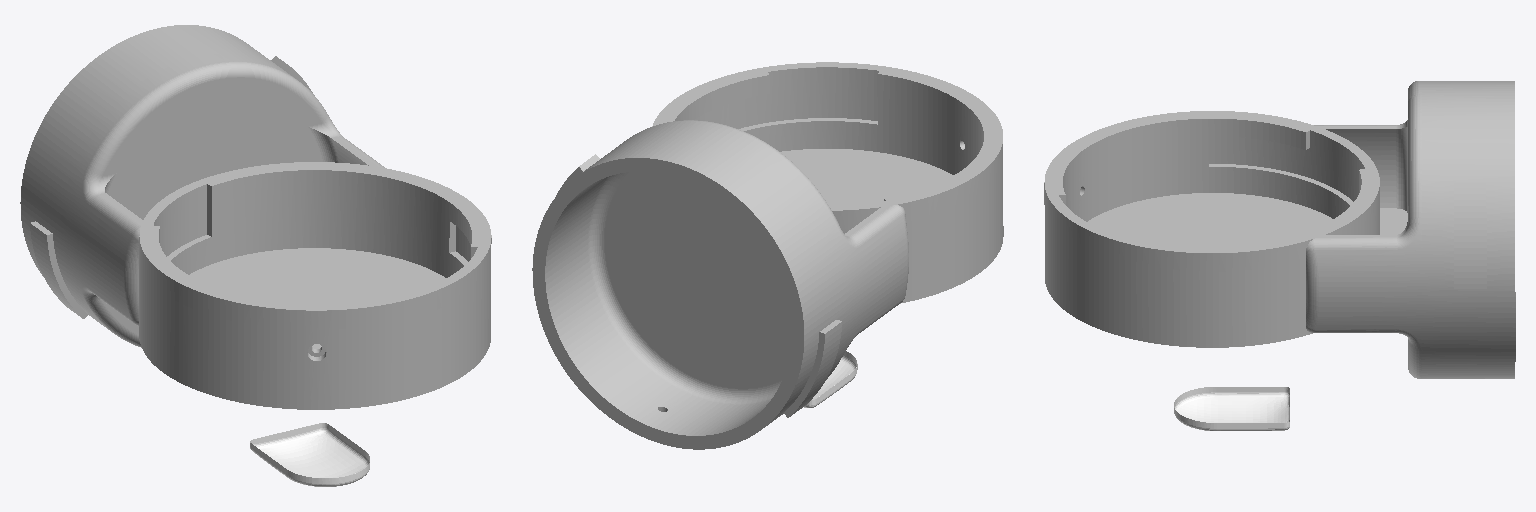
The robot description file, URDF, robot "universal_robot":
<?xml version="1.0"?>
<!--FOR GRIPPER, THERE IS NO LINK INERTIA DEFINED HERE-->
<robot name="universal_robot">

  <!-- Colors -->
  <material name="DarkGrey">
    <color rgba="0.2 0.2 0.2 1.0"/>
  </material>
  <material name="Grey">
    <color rgba="0.4 0.4 0.4 1.0"/>
  </material>
  <material name="Orange">
    <color rgba="1.0 0.423529411765 0.0392156862745 1.0"/>
  </material>
  <material name="Blue">
    <color rgba="0 0.1 1.0 1.0"/>
  </material>
  <material name="LightGrey">
    <color rgba="0.7 0.7 0.7 1.0"/>
  </material>
  <material name="Red">
    <color rgba="0.9 0 0.2 1.0"/>
  </material>
  <material name="TransparentRed">
    <color rgba="0.9 0 0.2 0.5"/>
  </material>
  <material name="Green">
    <color rgba="0 0.9 0.5 1.0"/>
  </material>
  <material name="Yellow">
    <color rgba="0.7 0.7 0 1.0"/>
  </material>
  <material name="LightBlue">
    <color rgba="0. 0.3 1.0 1.0"/>
  </material>
  <material name="Black">
    <color rgba="0.05 0.05 0.05 1.0"/>
  </material>
  <material name="White">
    <color rgba="1.0 1.0 1.0 1.0" />
  </material>



    <!-- connect arm to world -->
      <link name="world"/>
      <joint name="world_joint" type="fixed">
        <parent link="world"/>
        <child link="base_link"/>
        <origin rpy="0.0 0.0 -3.14" xyz="0.0 0.0 0.0"/>
      </joint>


      <link name="base_link">
        <visual>
          <geometry>
            <mesh filename="visual/base.obj"/>
          </geometry>
          <material name="LightGrey"/>
        </visual>
        <collision>
          <geometry>
            <mesh filename="collision/base.stl"/>
          </geometry>
        </collision>
        <inertial>
          <mass value="4.0"/>
          <origin rpy="0 0 0" xyz="0.0 0.0 0.0"/>
          <inertia ixx="0.00443333156" ixy="0.0" ixz="0.0" iyy="0.00443333156" iyz="0.0" izz="0.0072"/>
        </inertial>
      </link>

      <joint name="base_joint" type="revolute">
        <parent link="base_link"/>
        <child link="shoulder_link"/>
        <origin rpy="0.0 0.0 0.0" xyz="0.0 0.0 0.089159"/>
        <axis xyz="0 0 1"/>
        <limit effort="150.0" lower="-100" upper="100" velocity="3.15"/>
        <dynamics damping="0.5" friction="0.0"/>
      </joint>

      <link name="shoulder_link">
        <visual>
          <geometry>
            <mesh filename="visual/shoulder.obj"/>
          </geometry>
          <material name="DarkGrey"/>
        </visual>
        <collision>
          <geometry>
            <mesh filename="collision/shoulder.stl"/>
          </geometry>
        </collision>
        <inertial>
          <mass value="3.7"/>
          <origin rpy="0 0 0" xyz="0.0 0.0 0.0"/>
          <inertia ixx="0.010267495893" ixy="0.0" ixz="0.0" iyy="0.010267495893" iyz="0.0" izz="0.00666"/>
        </inertial>
      </link>

      <joint name="shoulder_joint" type="revolute">
        <parent link="shoulder_link"/>
        <child link="upper_arm_link"/>
        <origin rpy="0.0 1.57079632679 0.0" xyz="0.0 0.13585 0.0"/>
        <axis xyz="0 1 0"/>
        <limit effort="150.0" lower="-100" upper="100" velocity="3.15"/>
        <dynamics damping="0.5" friction="0.0"/>
      </joint>

      <link name="upper_arm_link">
        <visual>
          <geometry>
            <mesh filename="visual/upperarm.obj"/>
          </geometry>
          <material name="LightGrey"/>
        </visual>
        <collision>
          <geometry>
            <mesh filename="collision/upperarm.stl"/>
          </geometry>
        </collision>
        <inertial>
          <mass value="8.393"/>
          <origin rpy="0 0 0" xyz="0.0 0.0 0.28"/>
          <inertia ixx="0.22689067591" ixy="0.0" ixz="0.0" iyy="0.22689067591" iyz="0.0" izz="0.0151074"/>
        </inertial>
      </link>

      <joint name="elbow_joint" type="revolute">
        <parent link="upper_arm_link"/>
        <child link="forearm_link"/>
        <origin rpy="0.0 0.0 0.0" xyz="0.0 -0.1197 0.425"/>
        <axis xyz="0 1 0"/>
        <limit effort="150.0" lower="-100" upper="100" velocity="3.15"/>
        <dynamics damping="0.5" friction="0.0"/>
      </joint>

      <link name="forearm_link">
        <visual>
          <geometry>
            <mesh filename="visual/forearm.obj"/>
          </geometry>
          <material name="DarkGrey"/>
        </visual>
        <collision>
          <geometry>
            <mesh filename="collision/forearm.stl"/>
          </geometry>
        </collision>
        <inertial>
          <mass value="2.275"/>
          <origin rpy="0 0 0" xyz="0.0 0.0 0.25"/>
          <inertia ixx="0.049443313556" ixy="0.0" ixz="0.0" iyy="0.049443313556" iyz="0.0" izz="0.004095"/>
        </inertial>
      </link>

      <joint name="wrist_1_joint" type="revolute">
        <parent link="forearm_link"/>
        <child link="wrist_1_link"/>
        <origin rpy="0.0 1.57079632679 0.0" xyz="0.0 0.0 0.39225"/>
        <axis xyz="0 1 0"/>
        <limit effort="28.0" lower="-100" upper="100" velocity="3.2"/>
        <dynamics damping="0.5" friction="0.0"/>
      </joint>

      <link name="wrist_1_link">
        <visual>
          <geometry>
            <mesh filename="visual/wrist1.obj"/>
          </geometry>
          <material name="LightGrey"/>
        </visual>
        <collision>
          <geometry>
            <mesh filename="collision/wrist1.stl"/>
          </geometry>
        </collision>
        <inertial>
          <mass value="1.219"/>
          <origin rpy="0 0 0" xyz="0.0 0.0 0.0"/>
          <inertia ixx="0.111172755531" ixy="0.0" ixz="0.0" iyy="0.111172755531" iyz="0.0" izz="0.21942"/>
        </inertial>
      </link>

      <joint name="wrist_2_joint" type="revolute">
        <parent link="wrist_1_link"/>
        <child link="wrist_2_link"/>
        <origin rpy="0.0 0.0 0.0" xyz="0.0 0.093 0.0"/>
        <axis xyz="0 0 1"/>
        <limit effort="28.0" lower="-100" upper="100" velocity="3.2"/>
        <dynamics damping="0.5" friction="0.0"/>
      </joint>

      <link name="wrist_2_link">
        <visual>
          <geometry>
            <mesh filename="visual/wrist2.obj"/>
          </geometry>
          <material name="DarkGrey"/>
        </visual>
        <collision>
          <geometry>
            <mesh filename="collision/wrist2.stl"/>
          </geometry>
        </collision>
        <inertial>
          <mass value="1.219"/>
          <origin rpy="0 0 0" xyz="0.0 0.0 0.0"/>
          <inertia ixx="0.111172755531" ixy="0.0" ixz="0.0" iyy="0.111172755531" iyz="0.0" izz="0.21942"/>
        </inertial>
      </link>

      <joint name="wrist_3_joint" type="revolute">
        <parent link="wrist_2_link"/>
        <child link="wrist_3_link"/>
        <origin rpy="0.0 0.0 0.0" xyz="0.0 0.0 0.09465"/>
        <axis xyz="0 1 0"/>
        <limit effort="28.0" lower="-100" upper="100" velocity="3.2"/>
        <dynamics damping="0.5" friction="0.0"/>
      </joint>

      <link name="wrist_3_link">
        <visual>
          <geometry>
            <mesh filename="visual/wrist3.obj"/>
          </geometry>
           <material name="whitish">
            <color rgba="0.8 0.8 0.8 1.0"/>
          </material>
        </visual>
        <collision>
          <geometry>
            <mesh filename="collision/wrist3.stl"/>
          </geometry>
        </collision>
        <inertial>
          <mass value="0.1879"/>
          <origin rpy="0 0 0" xyz="0.0 0.0 0.0"/>
          <inertia ixx="0.0171364731454" ixy="0.0" ixz="0.0" iyy="0.0171364731454" iyz="0.0" izz="0.033822"/>
        </inertial>
      </link>

      <!-- End Effector -->

      <joint name="ee_joint" type="fixed">
        <parent link="wrist_3_link"/>
        <child link="ee_link"/>
        <origin rpy="1.57 3.14 0.0" xyz="0.0 0.0823 0.0"/>
      </joint>

      <link name="ee_link">
        <visual>
          <origin rpy="0 0 0" xyz="0 0 0"/>
          <geometry>
            <sphere radius="0.001"/>
          </geometry>
           <material name="whitish">
            <color rgba="0.8 0.8 0.8 1.0"/>
          </material>
        </visual>
        <collision>
          <geometry>
            <sphere radius="0.001"/>
          </geometry>
          <origin rpy="0 0 0" xyz="0.0 0 0"/>
        </collision>
        <inertial>
          <mass value="0.0"/>
          <origin rpy="-3.14 0.0 1.57" xyz="0.0 0.0 0.0"/>
          <inertia ixx="0.001" ixy="0.0" ixz="0.0" iyy="0.001" iyz="0.0" izz="0.001"/>
        </inertial>
      </link>

      <!-- TacTip -->


      <link name="tactip_adapter_link">
        <inertial>
          <origin rpy="0 0 0" xyz="0 0 0"/>
           <mass value="0.1"/>
           <inertia ixx="0.001" ixy="0" ixz="0" iyy="0.001" iyz="0" izz="0.001"/>
        </inertial>
        <visual>
          <origin rpy="0 0 0" xyz="0 0 0"/>
          <geometry>
    				<mesh filename="../tactip/right_angle_tactip/adapter/right_angle_adapter.obj" scale="1.0 1.0 1.0"/>
          </geometry>
           <material name="whitish">
            <color rgba="0.8 0.8 0.8 1.0"/>
          </material>
        </visual>
        <collision>
          <origin rpy="0 0 0" xyz="0 0 0"/>
          <geometry>
    				<mesh filename="../tactip/right_angle_tactip/adapter/right_angle_adapter.obj" scale="1.0 1.0 1.0"/>
          </geometry>
        </collision>
      </link>

      <joint name="digit_ee_joint" type="fixed">
        <parent link="ee_link"/>
        <child link="tactip_adapter_link"/>
        <origin rpy="-1.57 -1.57 0" xyz="0.0 -0.005 -0.04"/>
      </joint>

  <link
    name="digit_body_link">
    <inertial>
      <origin
        xyz="0.00443338071044421 -0.0140914049333968 4.96453152977634E-09+0.02"
        rpy="0 0 0" />
      <mass
        value="0.0077837104153161" />
      <inertia
        ixx="7.77176839696665E-07"
        ixy="-5.52554519832781E-09"
        ixz="-2.21347841658254E-13"
        iyy="1.5788930001559E-06"
        iyz="-8.96409493368731E-14"
        izz="1.05613167218354E-06" />
    </inertial>
    <visual>
      <origin
        xyz="0 0 0.02"
        rpy="0 0 0" />
      <geometry>
        <mesh
          filename="../digit/standard_digit/digit_asmb/meshes/digit_body.STL" />
      </geometry>
      <material
        name="digit_body">
        <color
          rgba="0.0 0.0 0.0 1" />
      </material>
    </visual>
    <collision>
      <origin
        xyz="0 0 0.02"
        rpy="0 0 0" />
      <geometry>
        <mesh
          filename="../digit/standard_digit/digit_asmb/meshes/digit_body.STL" />
      </geometry>
    </collision>
  </link>


      <joint name="digitac_body_to_adapter" type="fixed">
         <origin rpy="0 3.14 3.14" xyz="0 0 -0.014"/>
         <parent link="tactip_adapter_link"/>
         <child link="digit_body_link"/>
      </joint>


  <link
    name="digit_tip_link">
    <inertial>
      <origin
        xyz="-2.15568578500849E-07 0.00554133274527847 -0.00576051345741577-0.02"
        rpy="0 0 0" />
      <mass
        value="0.00130411151086353" />
      <inertia
        ixx="5.48284140746448E-08"
        ixy="-4.02703926962539E-12"
        ixz="-5.29135712007007E-14"
        iyy="3.03790231207661E-08"
        iyz="-1.56642204167579E-10"
        izz="8.26200689636922E-08" />
    </inertial>
    <visual>
      <origin
        xyz="0 0 -0.02"
        rpy="0 0 0" />
      <geometry>
        <mesh
          filename="../digit/standard_digit/digit_asmb_hollow/meshes/digit_core.STL" scale="1.0 1.0 1.0"/>
      </geometry>
      <material
        name="digit_skin">
        <color
          rgba="1.0 1.0 1.0 1" />
      </material>
    </visual>
    <collision>
      <origin
        xyz="0 0 -0.02"
        rpy="0 0 0" />
      <geometry>
        <mesh
          filename="../digit/standard_digit/digit_asmb/meshes/digit_core.STL" />
      </geometry>
    </collision>
  </link>

  <joint
    name="digit_tip_to_body"
    type="fixed">
    <origin
      xyz="-0.00151521951809463 -1.36251105150219E-05 -0.00415"
      rpy="-3.14159265358979 0 1.5707963267949" />
    <parent
      link="digit_body_link" />
    <child
      link="digit_tip_link" />
    <axis
      xyz="0 0 0" />
  </joint>

  
      <!-- TCP -->
      <link name="tcp_link">
        <visual>
          <origin rpy="0 0 0" xyz="0 0 0"/>
          <geometry>
            <sphere radius="0.001"/>
          </geometry>
           <material name="TransparentRed"/>
        </visual>
        <inertial>
          <mass value="0.0"/>
          <origin rpy="0.0 0.0 1.57" xyz="0.0 0.0 0.0"/>
          <inertia ixx="1.0" ixy="0.0" ixz="0.0" iyy="1.0" iyz="0.0" izz="1.0"/>
        </inertial>
      </link>

      <joint name="tcp_joint" type="fixed">
        <parent link="digit_body_link"/>
        <child link="tcp_link"/>
        <origin rpy="1.57 0 -1.57" xyz="0.0007 0.0 0.025"/>
      </joint>


<!-- link and joint for debug -->
<!-- 
  <link
    name="sq_link">
    <inertial>
      <origin
        xyz="-0.00535000000000003 0.00799999999999999 5.00000000005617E-06-0.02"
        rpy="0 0 0" />
      <mass
        value="1.59999999999993E-07" />
      <inertia
        ixx="5.33346666666645E-14"
        ixy="-1.34013559776601E-30"
        ixz="4.41903370583012E-33"
        iyy="5.33346666666645E-14"
        iyz="-3.65677197028787E-28"
        izz="1.06666666666662E-13" />
    </inertial>
    <visual>
      <origin
        xyz="0 0 -0.02"
        rpy="0 0 0" />
      <geometry>
        <mesh
          filename="../digit/standard_digit/digit_asmb_skin_with_marks/meshes/sq_link.STL" />
      </geometry>
      <material
        name="Green">
        <color
          rgba="0.9 0.9 0.9 1" />
      </material>
    </visual>
    <collision>
      <origin
        xyz="0 0 -0.02"
        rpy="0 0 0" />
      <geometry>
        <mesh
          filename="../digit/standard_digit/digit_asmb_skin_with_marks/meshes/sq_link.STL" />
      </geometry>
    </collision>
  </link>


  <joint
    name="skin_sq_joint"
    type="fixed">
    <origin
      xyz="-0.00535000000000005 0.0132650762017464 -0.00645000000000009"
      rpy="0 0 3.14159265358979" />
    <parent
      link="digit_tip_link" />
    <child
      link="sq_link" />
    <axis
      xyz="0 0 0" />
  </joint>
 -->

</robot>

--- What the picture shows (computed from the rendered views, not written in the file) ---
3 views of the same robot in one strip: view 1: azimuth 30°, elevation 25°; view 2: azimuth 150°, elevation 25°; view 3: azimuth 270°, elevation 25° (orthographic).
Robot: universal_robot — 13 links, 12 joints (6 revolute, 6 fixed); root link world; default pose: all joints at 0.
Links seen in each view (by area): view 1: tactip_adapter_link, digit_tip_link; view 2: tactip_adapter_link, digit_tip_link; view 3: tactip_adapter_link, digit_tip_link.
Boxes of the visible links, left/top/right/bottom form: tactip_adapter_link: left=20, top=25, right=491, bottom=409; digit_tip_link: left=250, top=423, right=369, bottom=486; tactip_adapter_link: left=532, top=62, right=1003, bottom=449; digit_tip_link: left=804, top=351, right=857, bottom=407; tactip_adapter_link: left=1044, top=81, right=1515, bottom=378; digit_tip_link: left=1174, top=387, right=1289, bottom=430.
Size in the robot's own frame: 0.0721 by 0.1011 by 0.0781 metres.
2 mesh visuals loaded from 10 distinct referenced files (1 binary STL, 1 OBJ); not drawn: 8 (reference not matched to a file when rendering).